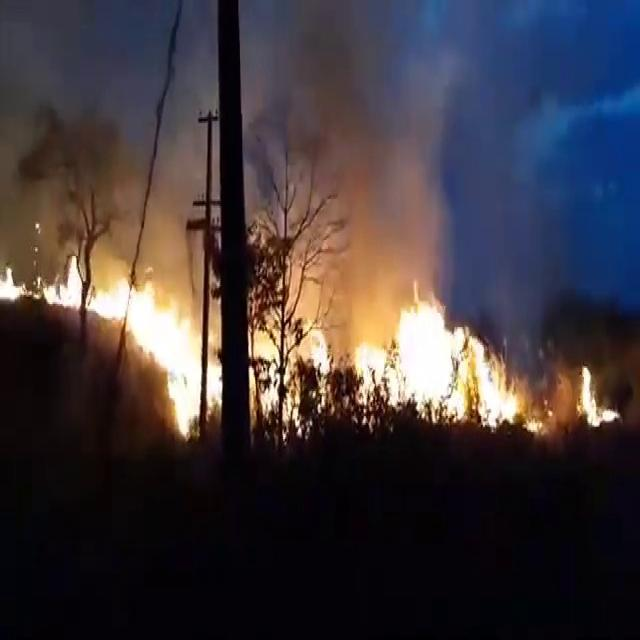Fire: (66, 276, 216, 434), (345, 295, 521, 425), (258, 320, 328, 427), (575, 364, 621, 428), (42, 252, 83, 310), (0, 254, 21, 302)
Smoke: (251, 0, 578, 352), (7, 0, 199, 244), (289, 12, 390, 254), (396, 8, 472, 294)
